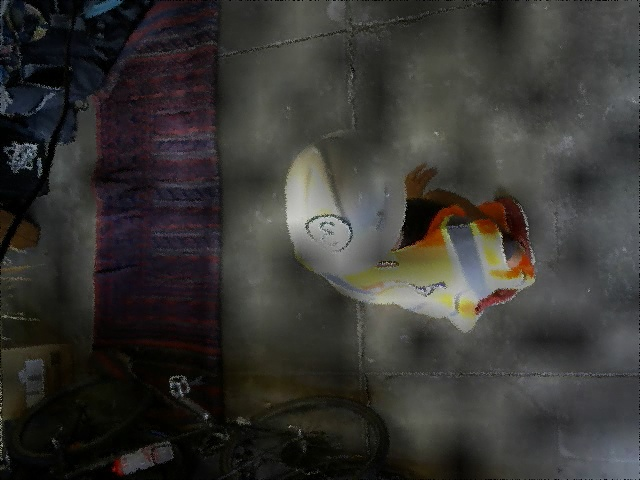three: (305, 215, 350, 251)
